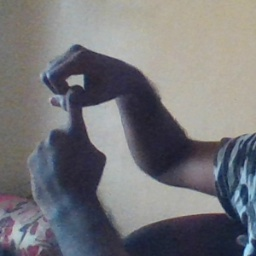Q: (22, 43, 133, 199)
